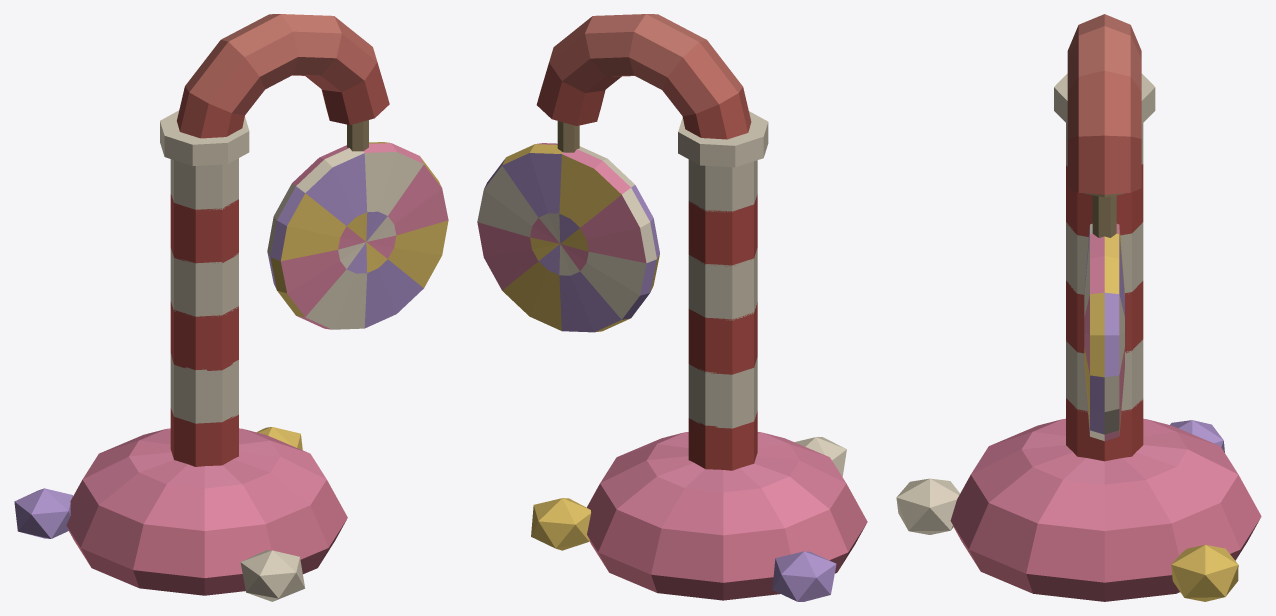
The model's file is plot_skin_candy.fbx.
3 views of the same model, side by side, from view 1: azimuth 30°, elevation 25°; view 2: azimuth 150°, elevation 25°; view 3: azimuth 270°, elevation 25° (orthographic). The views are drawn at different scales.
Visible parts, largest first — view 1: plot_skin_candy; view 2: plot_skin_candy; view 3: plot_skin_candy.
Boxes of the visible parts, x1,y1,x2,y2 form: plot_skin_candy: [14, 14, 448, 601]; plot_skin_candy: [477, 14, 867, 601]; plot_skin_candy: [896, 14, 1261, 601].
Bounding box in the file's own units: 5.31 × 6.65 × 3.96.
